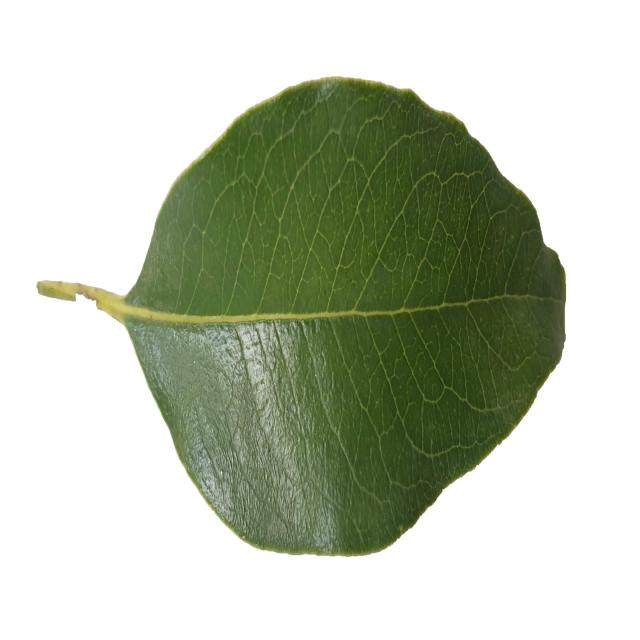Medicinal-Sandalwood: (35, 73, 565, 555)
